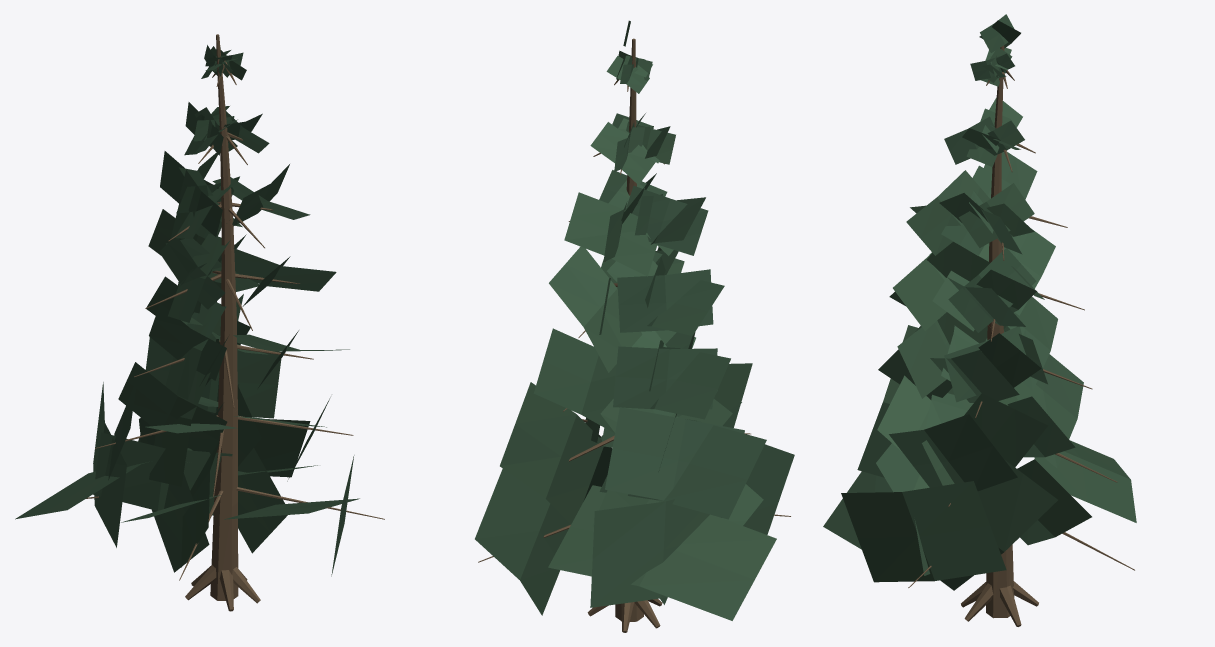
File: small_spruce.glb
The picture shows the model from 3 angles, left to right: view 1: azimuth 30°, elevation 25°; view 2: azimuth 150°, elevation 25°; view 3: azimuth 270°, elevation 25°; orthographic projection. The views are drawn at different scales.
Visible parts, largest first — view 1: world-scenery/small_spruce; view 2: world-scenery/small_spruce; view 3: world-scenery/small_spruce.
Boxes of the visible parts, x1,y1,x2,y2 form: world-scenery/small_spruce: (15, 34, 384, 611); world-scenery/small_spruce: (475, 20, 794, 632); world-scenery/small_spruce: (823, 14, 1136, 626).
Bounding box in the file's own units: 1.38 × 2.39 × 1.37.
